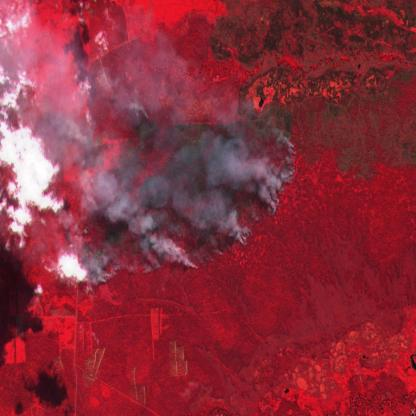fire: (74, 107, 299, 290)
